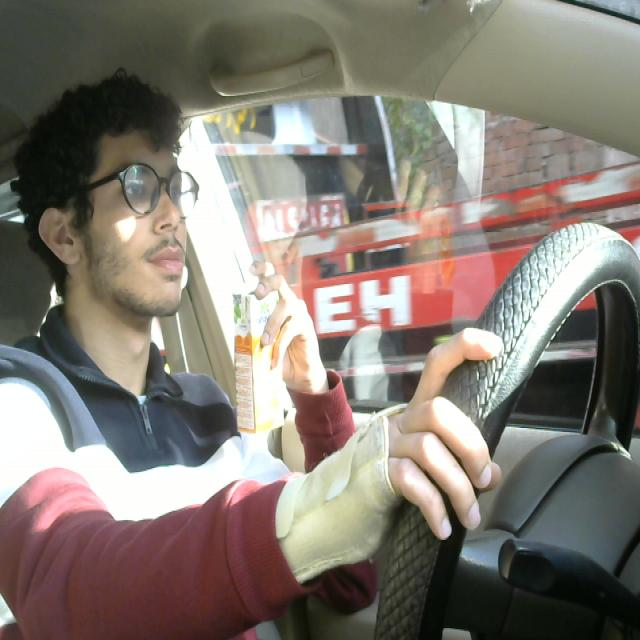drinking: (222, 270, 292, 440)
